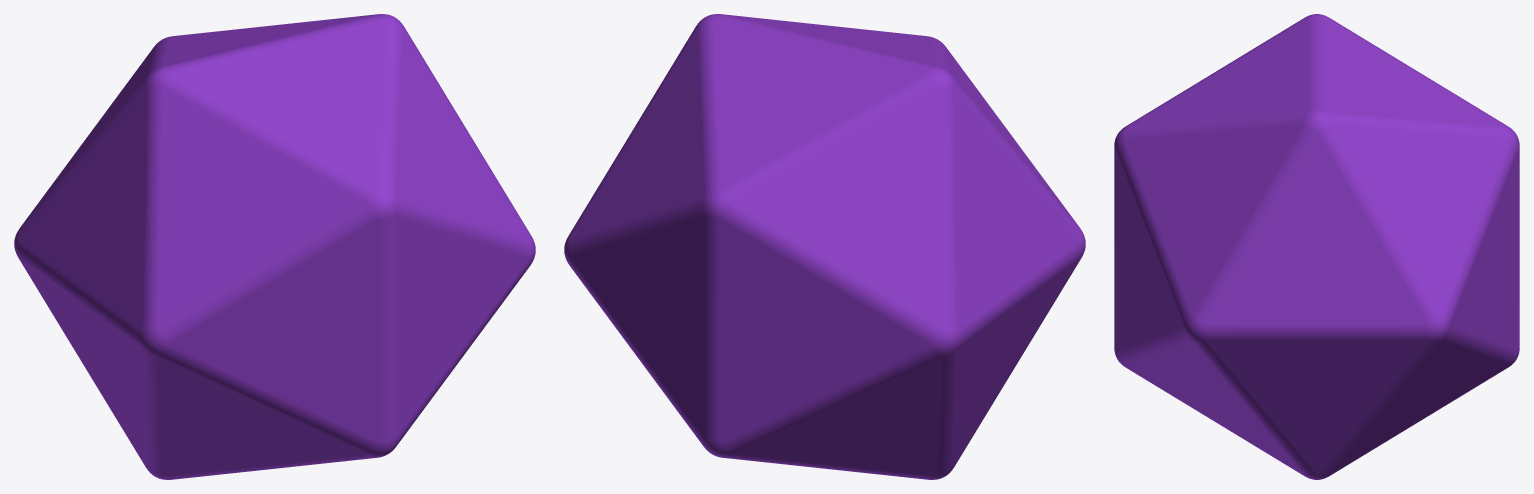
The model's file is geodinium.obj.
3 views of the same model, side by side, from view 1: azimuth 30°, elevation 25°; view 2: azimuth 150°, elevation 25°; view 3: azimuth 270°, elevation 25° (orthographic). The views are drawn at different scales.
Visible parts, largest first — view 1: obj1; view 2: obj1; view 3: obj1.
Part boxes in pixels (<box>): obj1: <box>14,14,535,479</box>; obj1: <box>564,14,1085,479</box>; obj1: <box>1114,14,1519,479</box>.
Size of the model in its own units: 33.74 by 33.74 by 33.74.
